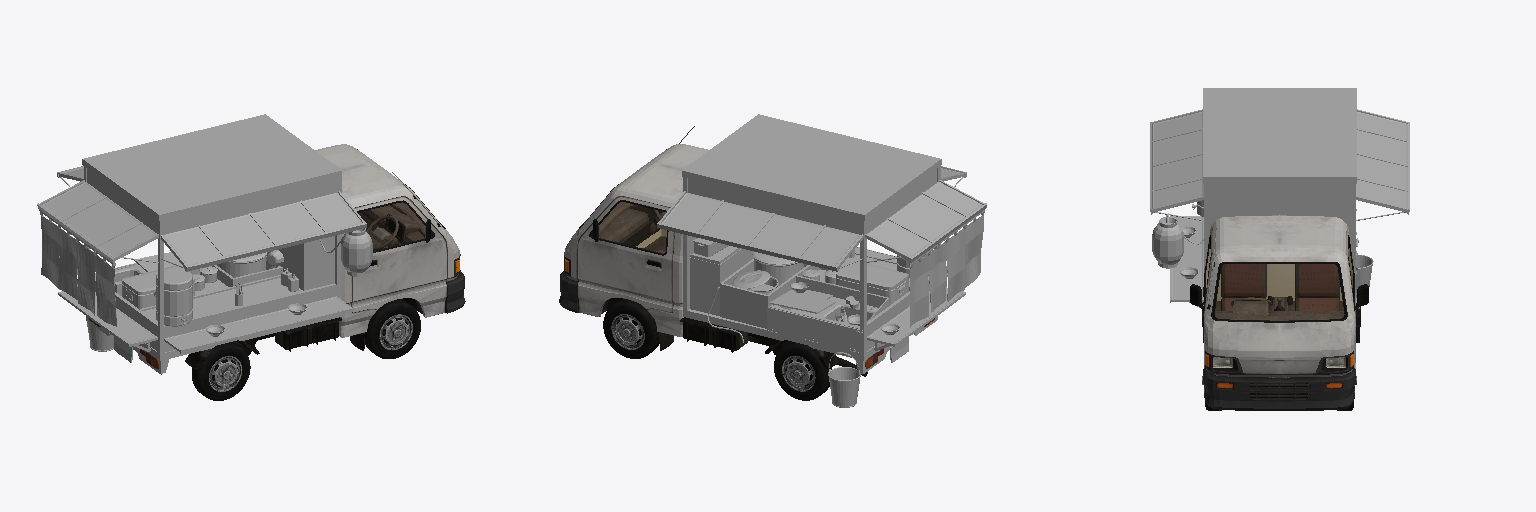
The picture shows the model from 3 angles: view 1: azimuth 30°, elevation 25°; view 2: azimuth 150°, elevation 25°; view 3: azimuth 270°, elevation 25°; orthographic projection.
Visible parts, largest first — view 1: object_2, object_1, object_5, object_3, object_4, object_0; view 2: object_2, object_1, object_5, object_3, object_4, object_0; view 3: object_2, object_5, object_0, object_1.
Part boxes in pixels (bbox=[...]): object_2: bbox=[37, 114, 366, 374]; object_1: bbox=[58, 228, 372, 372]; object_5: bbox=[89, 144, 465, 368]; object_3: bbox=[192, 299, 420, 400]; object_4: bbox=[185, 298, 422, 369]; object_0: bbox=[358, 202, 425, 250]; object_2: bbox=[657, 114, 986, 373]; object_1: bbox=[690, 238, 965, 407]; object_5: bbox=[559, 126, 934, 368]; object_3: bbox=[603, 299, 831, 400]; object_4: bbox=[601, 298, 867, 376]; object_0: bbox=[599, 202, 666, 253]; object_2: bbox=[1150, 88, 1409, 271]; object_5: bbox=[1190, 215, 1368, 410]; object_0: bbox=[1206, 248, 1352, 320]; object_1: bbox=[1152, 200, 1373, 308].
Size of the model in its own units: 372 by 199 by 231.
Materials: 6 (4 with a texture image).